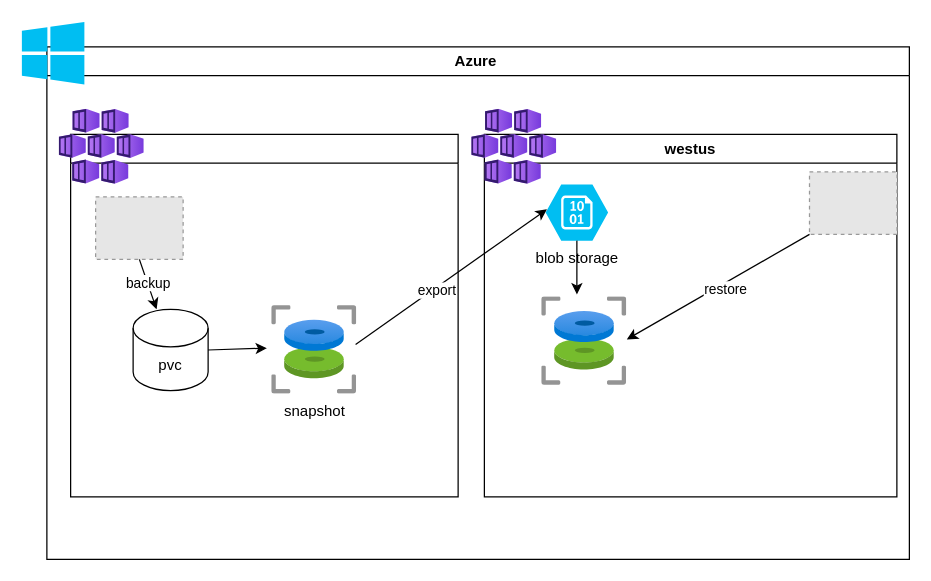
This 931x581 diagram has some shape labels left out. Grey dashed boxes stand in for pictures. The shapes that lost their labels are listed below. From the top down, each one's box as (x1, y1, x2, y2) in pixels, then its label:
(69, 133, 458, 497): eastus
(541, 296, 626, 385): snapshot copy
